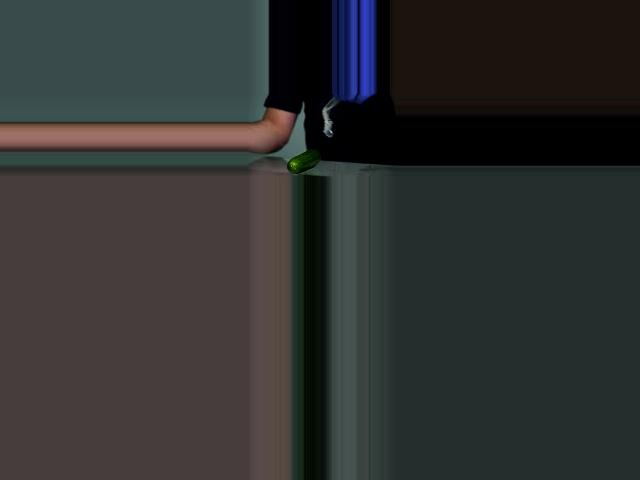cucumber: (286, 149, 320, 174)
